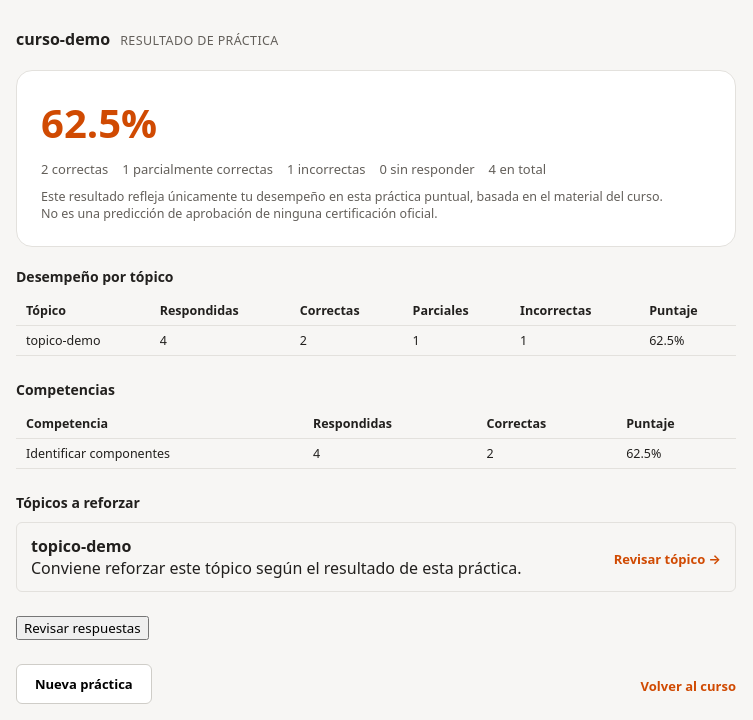
Scenario: CertificationResultsPage › 'Revisar respuestas' expande el repaso con pregunta/respuesta/correcta/explicación
Click the button "Revisar respuestas".
click(82, 628)  # box [16,616,149,640]
(page scrolled)
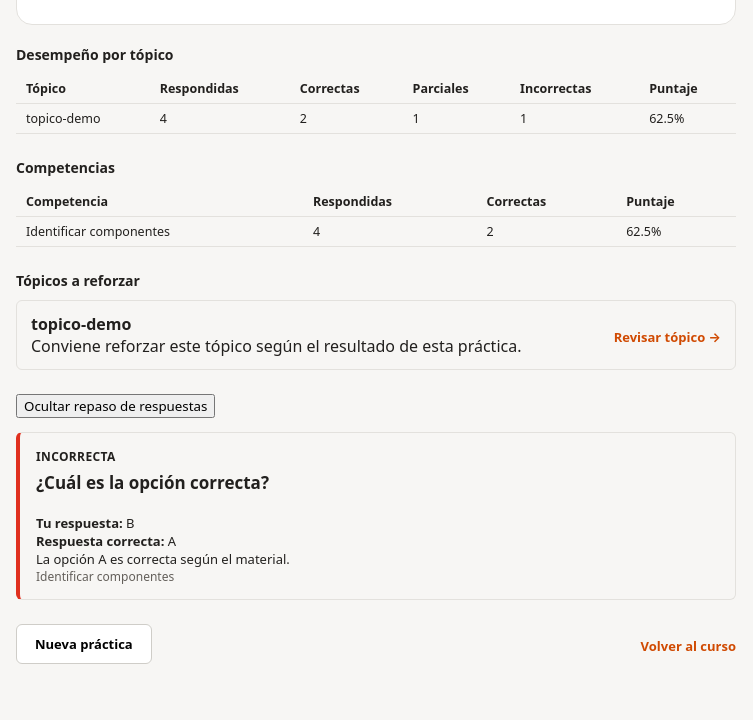
expect the text "¿Cuál es la opción correcta?" is shown: met, box [36,471,269,494]
expect the text "La opción A es correcta según el material." is shown: met, box [36,550,290,568]
